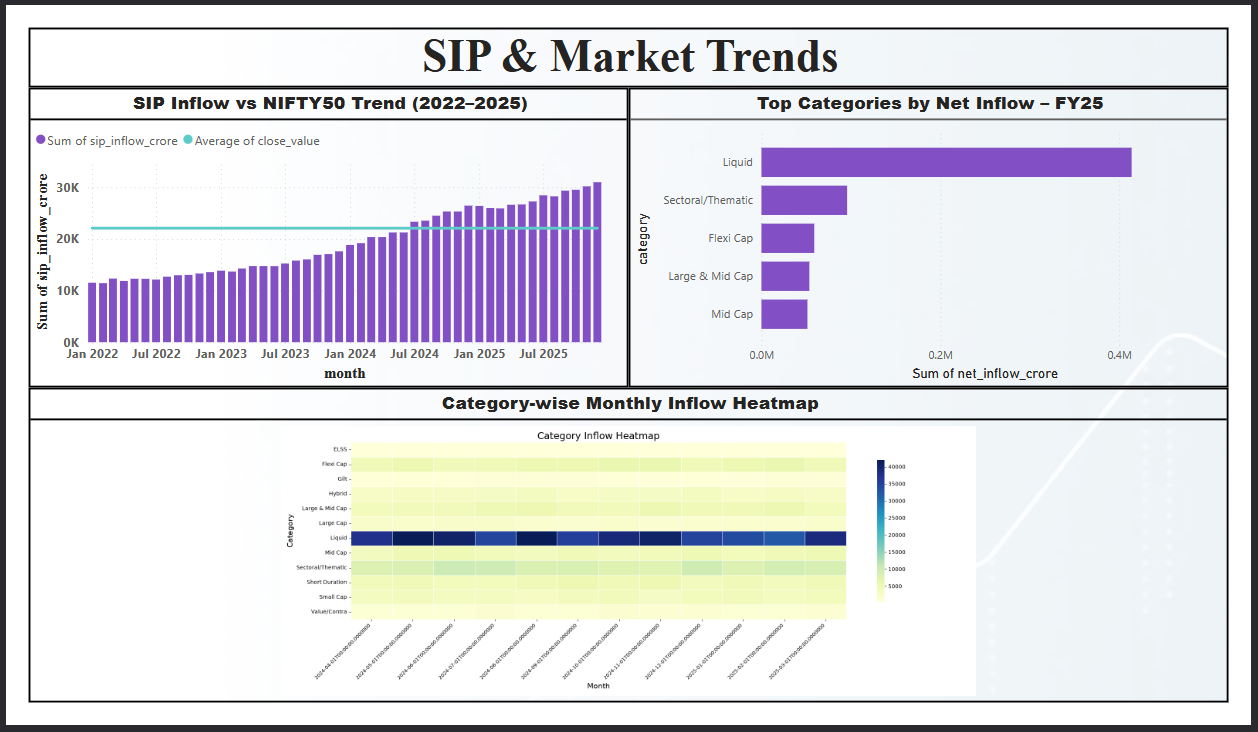

Layout of this report page (visuals, bound fields, positions):
{"tool":"powerbi","page":{"name":"SIP & Market Trends","canvas":[1280,720],"ordinal":3},"visuals":[{"type":"textbox","title":"SIP & Market Trends","box":[0,0,1280,64],"z":0},{"type":"lineStackedColumnComboChart","title":"SIP Inflow vs NIFTY50 Trend (2022–2025)","fields":{"Y":["Sum(04_monthly_sip_inflows.sip_inflow_crore)"],"Category":["04_monthly_sip_inflows.month"],"Y2":["Avg(10_benchmark_indices.close_value)"]},"box":[0,64,640,320],"z":1000},{"type":"barChart","title":"Top Categories by Net Inflow – FY25","fields":{"Category":["05_category_inflows.category"],"Y":["Sum(05_category_inflows.net_inflow_crore)"]},"box":[640,64,640,320],"z":2000},{"type":"pythonVisual","title":"Category-wise Monthly Inflow Heatmap","fields":{"Values":["05_category_inflows.category","05_category_inflows.month","05_category_inflows.net_inflow_crore"]},"box":[0,384,1280,336],"z":3000}]}

Visuals, with their boxes on the page's 1280x720 design canvas (x1, y1, x2, y2). These are canvas units, not pixel positions in the 1258x732 screenshot, which may show the page scaled, cropped or inside an application window:
"SIP & Market Trends" textbox: [0, 0, 1280, 64]
"SIP Inflow vs NIFTY50 Trend (2022–2025)" lineStackedColumnComboChart: [0, 64, 640, 384]
"Top Categories by Net Inflow – FY25" barChart: [640, 64, 1280, 384]
"Category-wise Monthly Inflow Heatmap" pythonVisual: [0, 384, 1280, 720]
